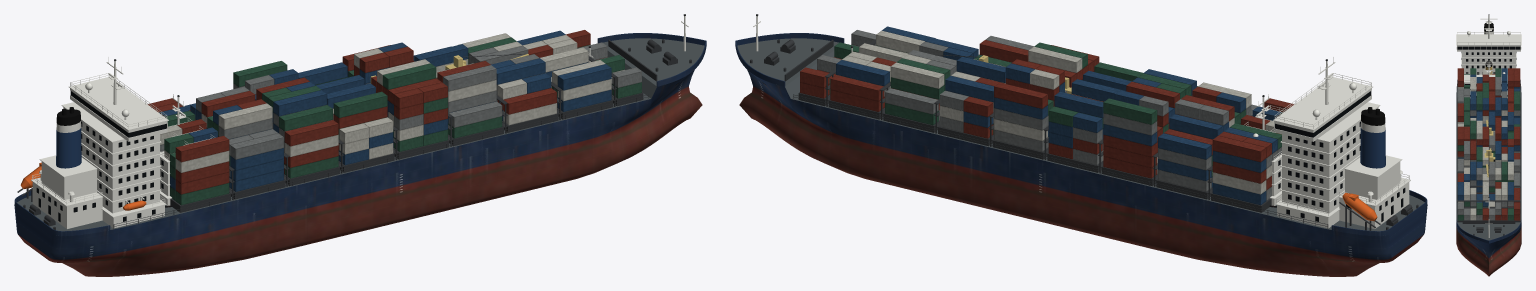
The model's file is ships.glb.
3 views of the same model, side by side, from view 1: azimuth 30°, elevation 25°; view 2: azimuth 150°, elevation 25°; view 3: azimuth 270°, elevation 25° (orthographic). The views are drawn at different scales.
Visible parts, largest first — view 1: ship_container_containers, ship_container_hull, ship_container_house, ship_container_gear, ship_bulk_house; view 2: ship_container_containers, ship_container_hull, ship_container_house, ship_container_gear, ship_bulk_house; view 3: ship_container_containers, ship_container_hull, ship_container_house, ship_container_gear, ship_bulk_house, ship_bulk_gear.
Part boxes in pixels (x1=…): ship_container_containers: x1=147, y1=30, x2=641, y2=205; ship_container_hull: x1=14, y1=38, x2=704, y2=276; ship_container_house: x1=31, y1=57, x2=168, y2=228; ship_container_gear: x1=14, y1=14, x2=706, y2=236; ship_bulk_house: x1=160, y1=94, x2=215, y2=205; ship_container_containers: x1=800, y1=26, x2=1294, y2=205; ship_container_hull: x1=737, y1=38, x2=1427, y2=276; ship_container_house: x1=1273, y1=57, x2=1410, y2=228; ship_container_gear: x1=735, y1=14, x2=1427, y2=236; ship_bulk_house: x1=1244, y1=94, x2=1286, y2=205; ship_container_containers: x1=1457, y1=68, x2=1520, y2=220; ship_container_hull: x1=1456, y1=84, x2=1521, y2=276; ship_container_house: x1=1456, y1=14, x2=1521, y2=74; ship_container_gear: x1=1456, y1=80, x2=1521, y2=243; ship_bulk_house: x1=1464, y1=59, x2=1507, y2=97; ship_bulk_gear: x1=1470, y1=97, x2=1507, y2=215.
Size of the model in its own units: 170 by 50.59 by 26.
21 materials, 8 textured.
